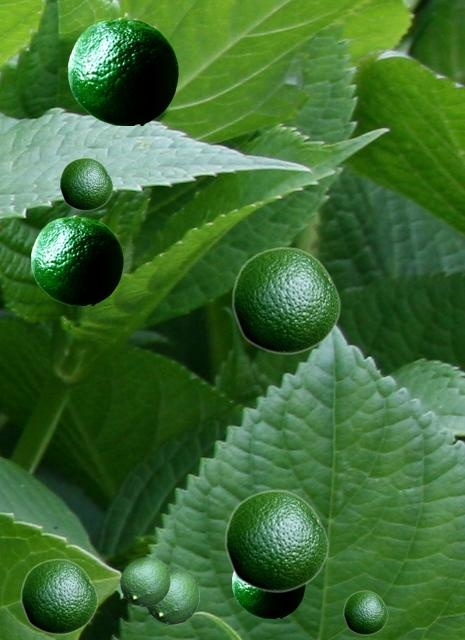calamansi: (231, 246, 340, 354), (68, 17, 177, 124), (224, 489, 328, 592), (31, 215, 122, 304), (20, 558, 97, 634), (232, 573, 304, 617), (59, 157, 112, 210), (146, 570, 198, 623), (120, 557, 169, 605), (343, 590, 387, 634)
